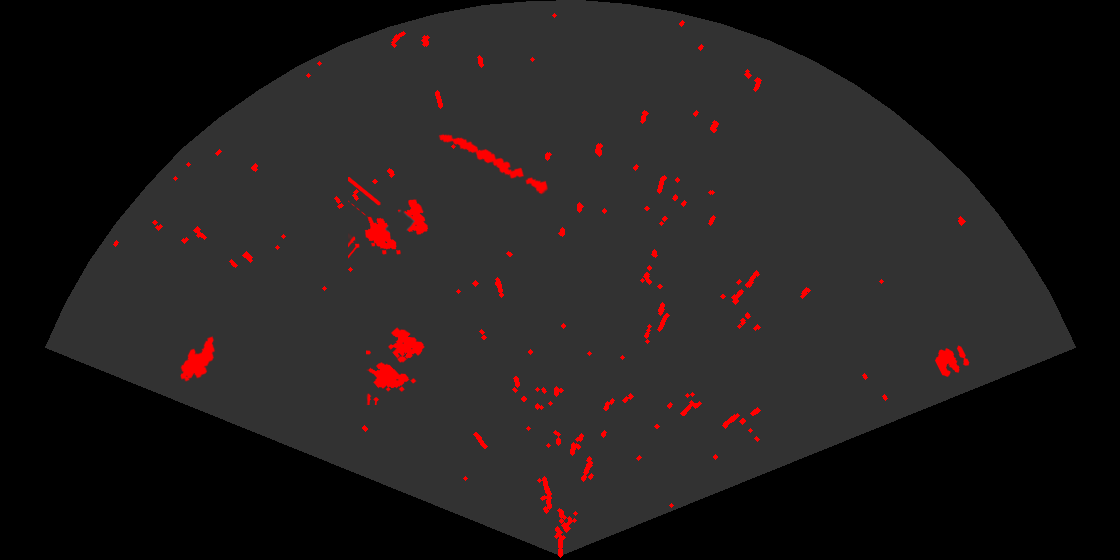AUV: (179, 335, 217, 383)
ball: (933, 344, 971, 379)
cage: (348, 177, 430, 260), (366, 326, 426, 405)
chain: (437, 132, 550, 196)
